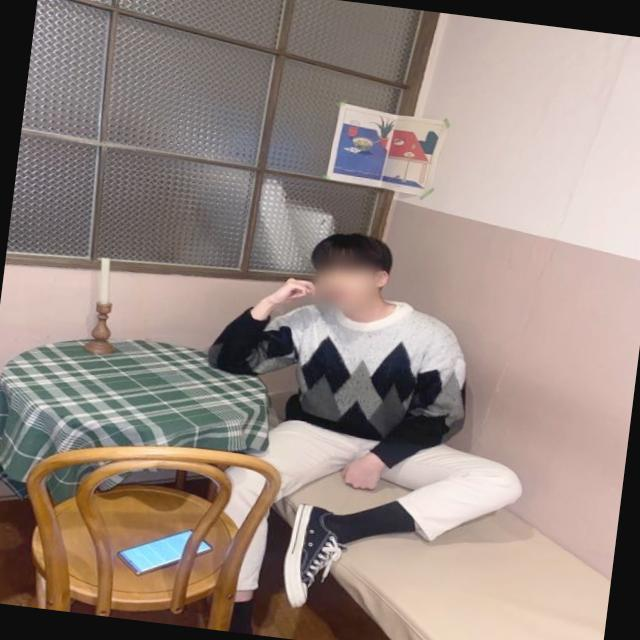cottonpants: (216, 406, 530, 620)
sweater: (211, 286, 477, 482)
